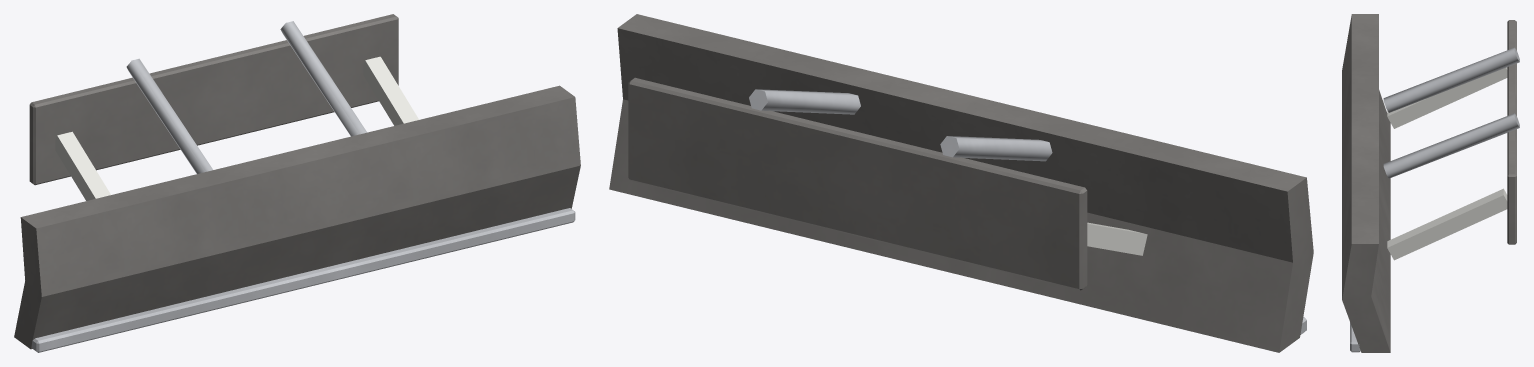
The model's file is ax_rover_21_regolith_blade_lowered.glb.
3 renders of one model, left to right at view 1: azimuth 30°, elevation 25°; view 2: azimuth 150°, elevation 25°; view 3: azimuth 270°, elevation 25°, orthographic. The views are drawn at different scales.
Parts seen in each view (by area): view 1: blade, mount_plate, cutting_edge, lift_actuators, push_frame; view 2: blade, mount_plate, lift_actuators, push_frame; view 3: blade, lift_actuators, push_frame, mount_plate, cutting_edge.
Boxes of the visible parts, <box> form: blade: <box>14,85,580,349</box>; mount_plate: <box>29,14,398,185</box>; cutting_edge: <box>32,208,575,352</box>; lift_actuators: <box>126,21,367,173</box>; push_frame: <box>55,56,418,200</box>; blade: <box>609,14,1313,352</box>; mount_plate: <box>628,77,1087,290</box>; lift_actuators: <box>749,89,1052,161</box>; push_frame: <box>1087,222,1147,255</box>; blade: <box>1342,14,1390,352</box>; lift_actuators: <box>1383,47,1519,178</box>; push_frame: <box>1387,67,1507,260</box>; mount_plate: <box>1507,20,1516,244</box>; cutting_edge: <box>1350,322,1360,352</box>.
Bounding box in the file's own units: 2.8 × 0.8869 × 0.9154.
Materials: 3 (2 with a texture image).
